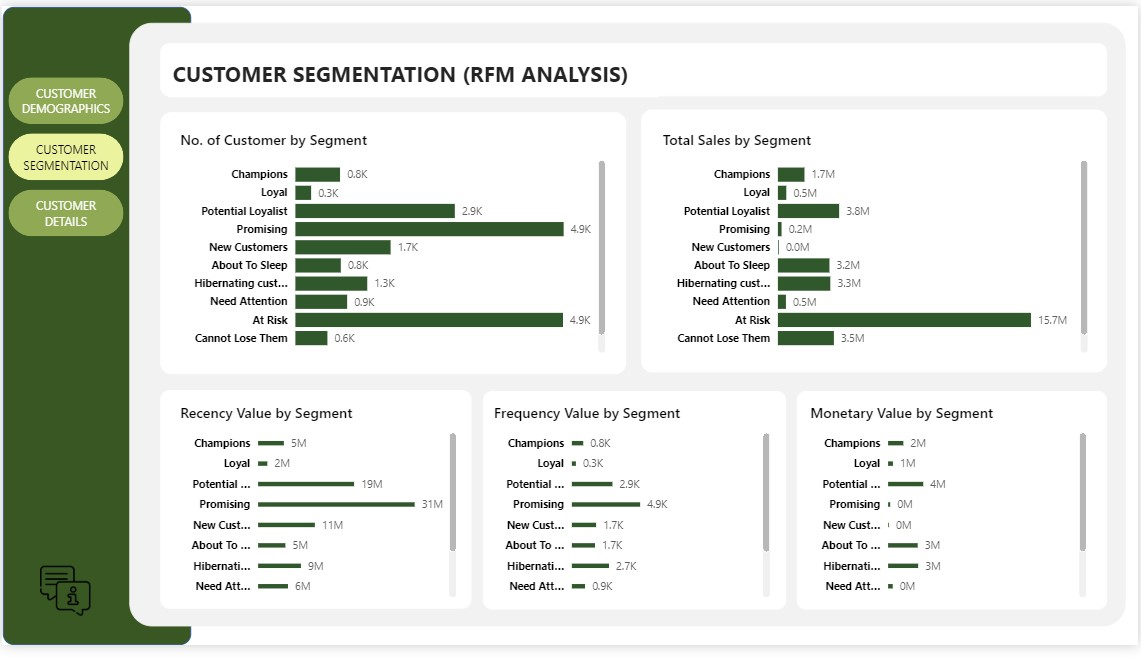

What the dashboard file says about the page in this screenshot:
{"tool":"powerbi","page":{"name":"CUSTOMER SEGMENTATION","canvas":[1280,720],"ordinal":1},"visuals":[{"type":"barChart","title":"No. of Customer by Segment","fields":{"Y":["Count(FactInternetSales.CustomerKey)"],"Category":["Segments Table.Segment"]},"box":[195.7,139.1,489.1,256.5],"z":0},{"type":"barChart","title":"Total Sales by Segment","fields":{"Y":["Sum(FactInternetSales.SalesAmount)"],"Category":["Segments Table.Segment"]},"box":[739.1,139.1,489.1,256.5],"z":1000},{"type":"barChart","title":"Recency Value by Segment","fields":{"Y":["Sum(RFM Table.Recency Value)"],"Category":["Segments Table.Segment"]},"box":[196.2,446.2,321.2,225],"z":2000},{"type":"barChart","title":"Frequency Value by Segment","fields":{"Y":["Sum(RFM Table.Frequency Value)"],"Category":["Segments Table.Segment"]},"box":[548.8,446.2,321.2,225],"z":3000},{"type":"barChart","title":"Monetary Value by Segment","fields":{"Y":["Sum(RFM Table.Moneytary Value)"],"Category":["Segments Table.Segment"]},"box":[906.2,446.2,321.2,225],"z":4000},{"type":"textbox","box":[187,55.6,551.9,48.1],"z":5000},{"type":"pageNavigator","box":[7.5,80,130,180],"z":5001},{"type":"image","box":[38.6,622.7,66.9,72.6],"z":5002}]}

Visuals, with their boxes in screenshot pixels (x1, y1, x2, y2), scaled from the page's 1280x720 canvas onto the 1141x657 screenshot:
"No. of Customer by Segment" barChart: bbox=(174, 127, 610, 361)
"Total Sales by Segment" barChart: bbox=(659, 127, 1095, 361)
"Recency Value by Segment" barChart: bbox=(175, 407, 461, 612)
"Frequency Value by Segment" barChart: bbox=(489, 407, 776, 612)
"Monetary Value by Segment" barChart: bbox=(808, 407, 1094, 612)
textbox: bbox=(167, 51, 659, 95)
pageNavigator: bbox=(7, 73, 123, 237)
image: bbox=(34, 568, 94, 634)
